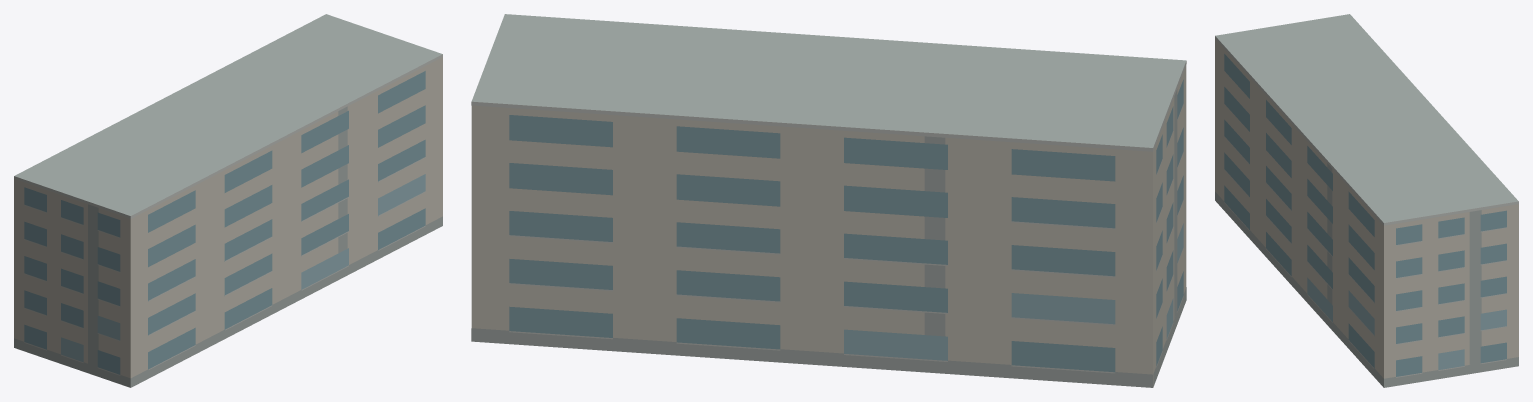
File: residential-9566e8b7-8893-459f-bba9-70d114c88b1d.glb
3 views of the same model, side by side, from view 1: azimuth 30°, elevation 25°; view 2: azimuth 150°, elevation 25°; view 3: azimuth 270°, elevation 25° (orthographic). The views are drawn at different scales.
Visible parts, largest first — view 1: residential-9566e8b7-8893-459f-bba9-70d114c88b1d.tmp; view 2: residential-9566e8b7-8893-459f-bba9-70d114c88b1d.tmp; view 3: residential-9566e8b7-8893-459f-bba9-70d114c88b1d.tmp.
Boxes of the visible parts, bbox=[...] form: residential-9566e8b7-8893-459f-bba9-70d114c88b1d.tmp: bbox=[14, 14, 442, 387]; residential-9566e8b7-8893-459f-bba9-70d114c88b1d.tmp: bbox=[471, 14, 1186, 387]; residential-9566e8b7-8893-459f-bba9-70d114c88b1d.tmp: bbox=[1215, 14, 1518, 387].
Bounding box in the file's own units: 41.5 × 15.25 × 25.48.
